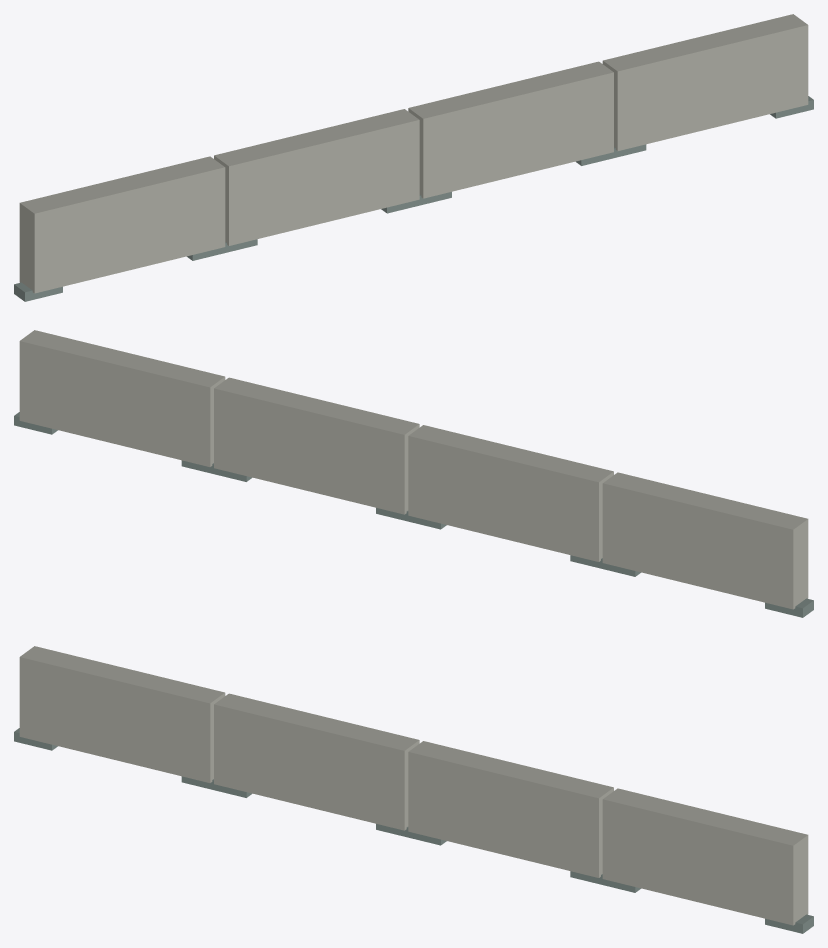
The model's file is SM_Vallas_v0_Obra_LOD1.fbx.
3 renders of one model, top to bottom at view 1: azimuth 30°, elevation 25°; view 2: azimuth 150°, elevation 25°; view 3: azimuth 330°, elevation 25°, orthographic.
Parts seen in each view (by area): view 1: SM_ambiente_aerodromo_v20_LOD1; view 2: SM_ambiente_aerodromo_v20_LOD1; view 3: SM_ambiente_aerodromo_v20_LOD1.
Boxes of the visible parts, x1,y1,x2,y2 form: SM_ambiente_aerodromo_v20_LOD1: (14, 14, 813, 301); SM_ambiente_aerodromo_v20_LOD1: (14, 330, 813, 617); SM_ambiente_aerodromo_v20_LOD1: (14, 646, 813, 933).
Size of the model in its own units: 10.35 by 1.1 by 0.34.
